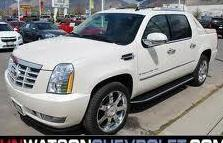front_view: (2, 47, 81, 133)
headlight: (45, 62, 76, 97)
side_glass: (146, 13, 193, 50)
